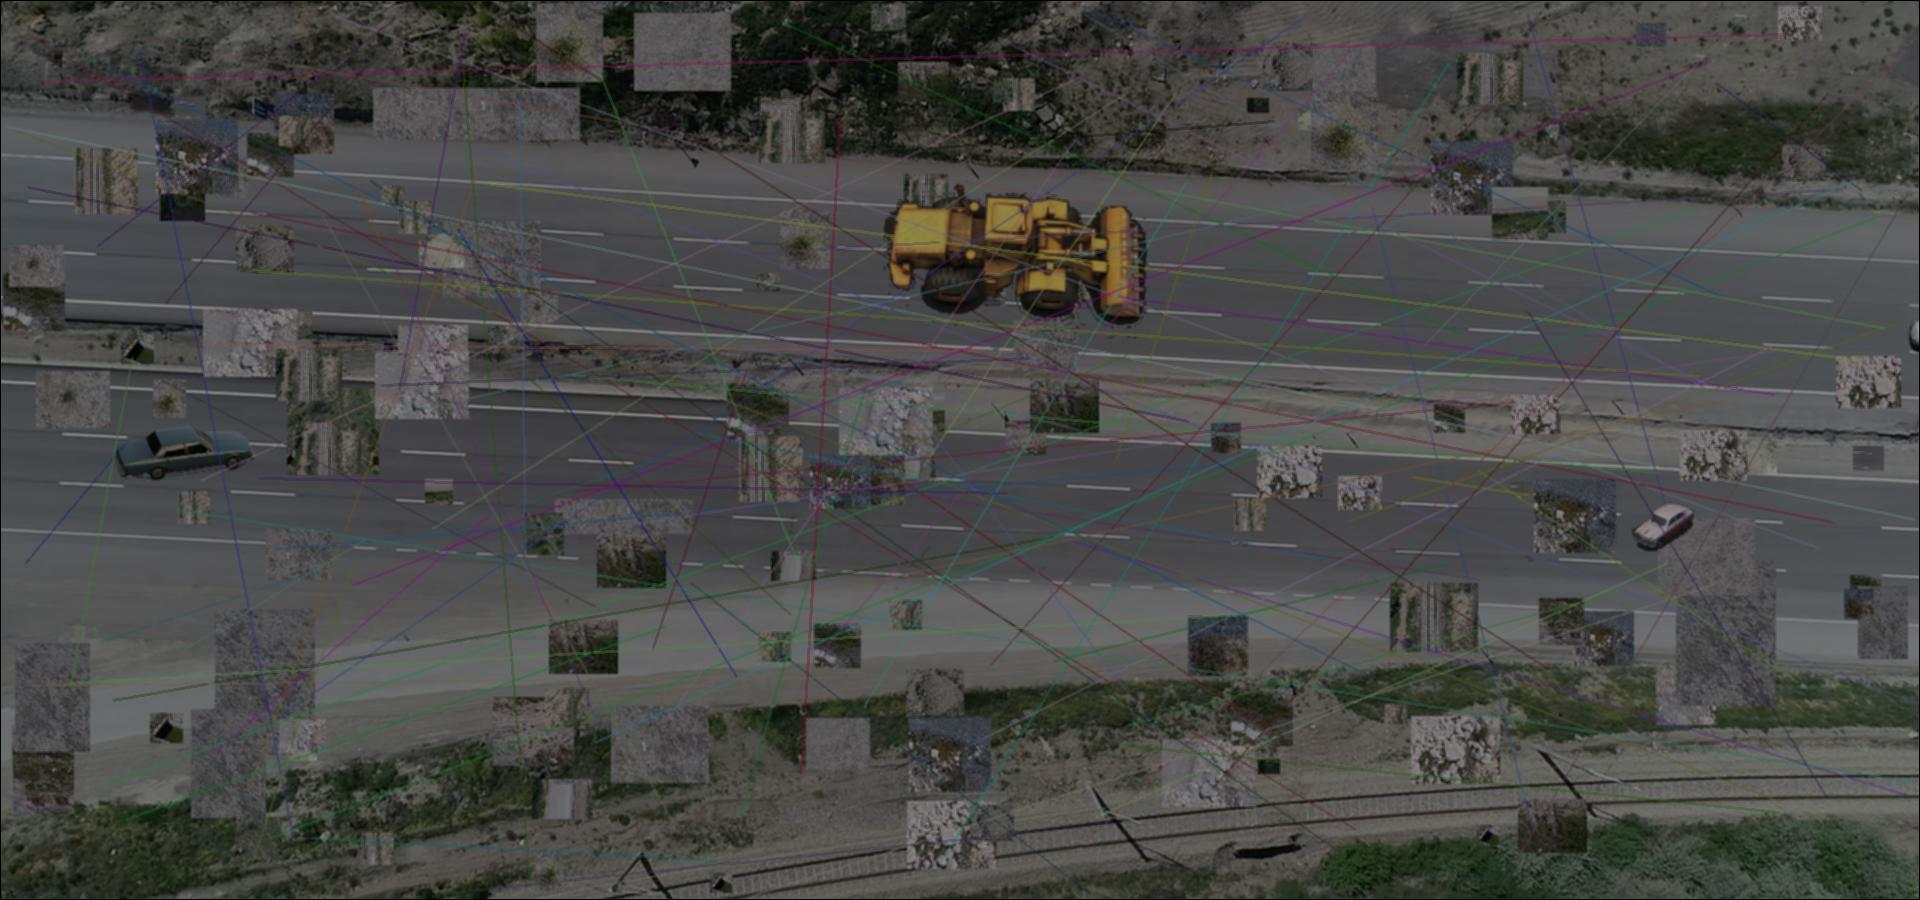arac: (871, 156, 1167, 348), (111, 425, 260, 481), (1631, 500, 1696, 551)
